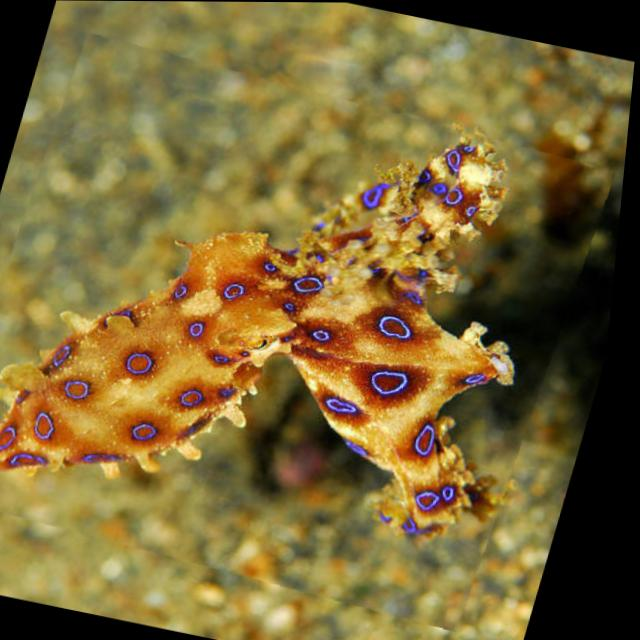blue_ringed_octopus: (0, 34, 627, 628)
